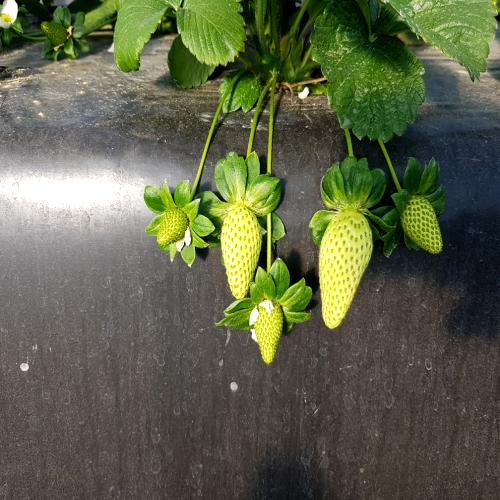unripe: (314, 202, 380, 339), (219, 205, 267, 304)
